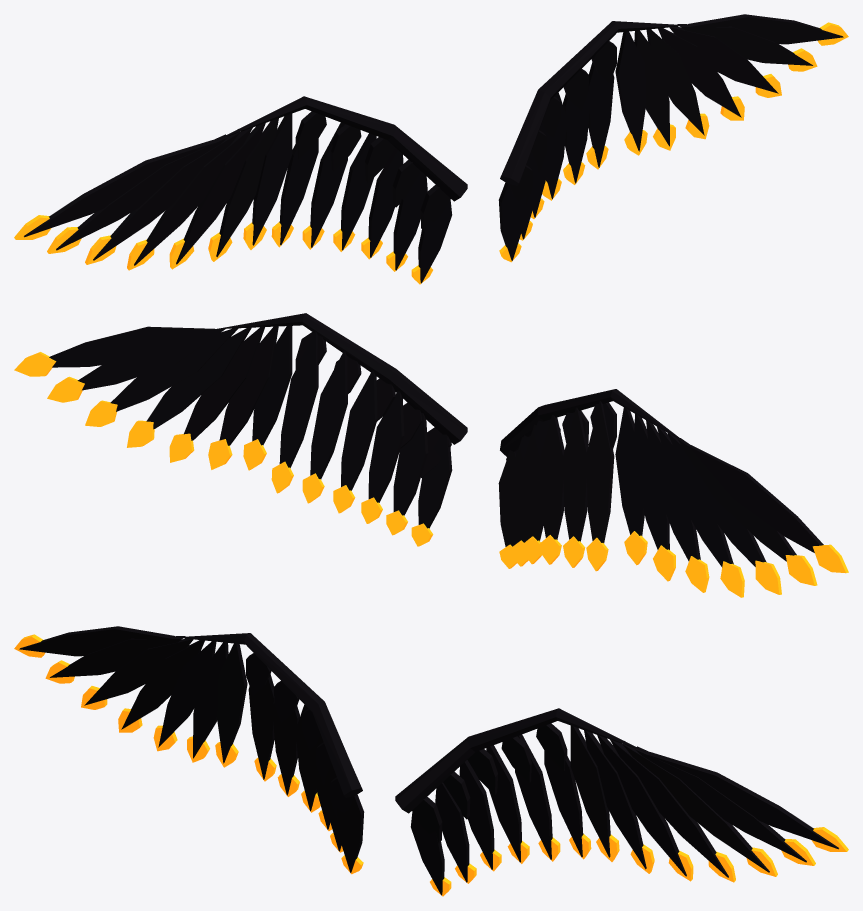
Rendered from alas_lucifer.fbx.
3 views of the same model, one above another, from view 1: azimuth 30°, elevation 25°; view 2: azimuth 150°, elevation 25°; view 3: azimuth 330°, elevation 25° (orthographic).
Visible parts, largest first — view 1: ala_der, ala_izq; view 2: ala_izq, ala_der; view 3: ala_izq, ala_der.
Part boxes in pixels (bbox=[...]): ala_der: bbox=[14, 96, 467, 284]; ala_izq: bbox=[498, 14, 848, 262]; ala_izq: bbox=[14, 313, 467, 546]; ala_der: bbox=[498, 389, 848, 597]; ala_izq: bbox=[395, 708, 848, 896]; ala_der: bbox=[14, 626, 364, 874].
Size of the model in its own units: 4.11 by 0.9887 by 0.512.
